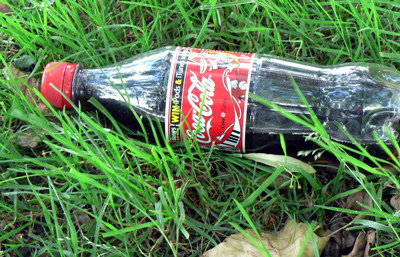litter: (37, 42, 400, 160)
